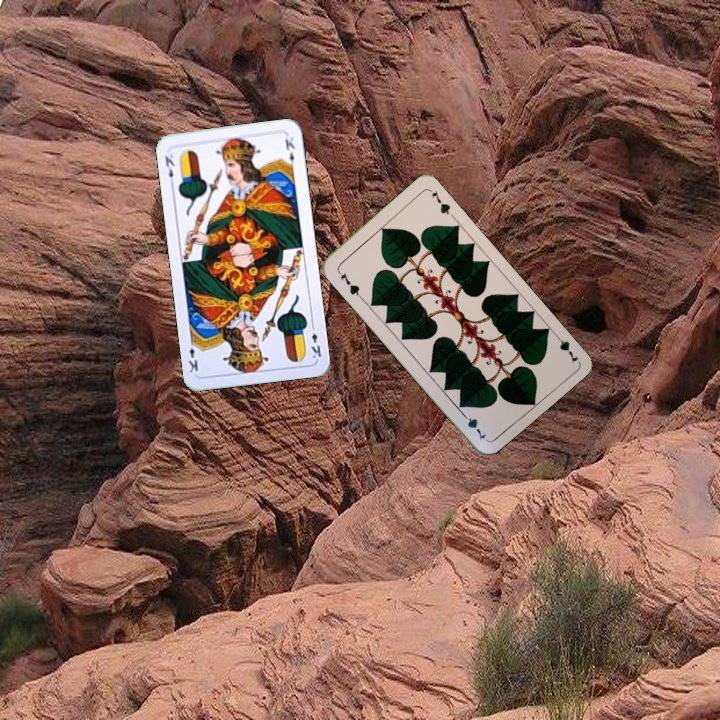EK: (307, 320, 324, 361), (161, 150, 177, 188)
G7: (550, 328, 581, 365), (334, 266, 364, 300)
